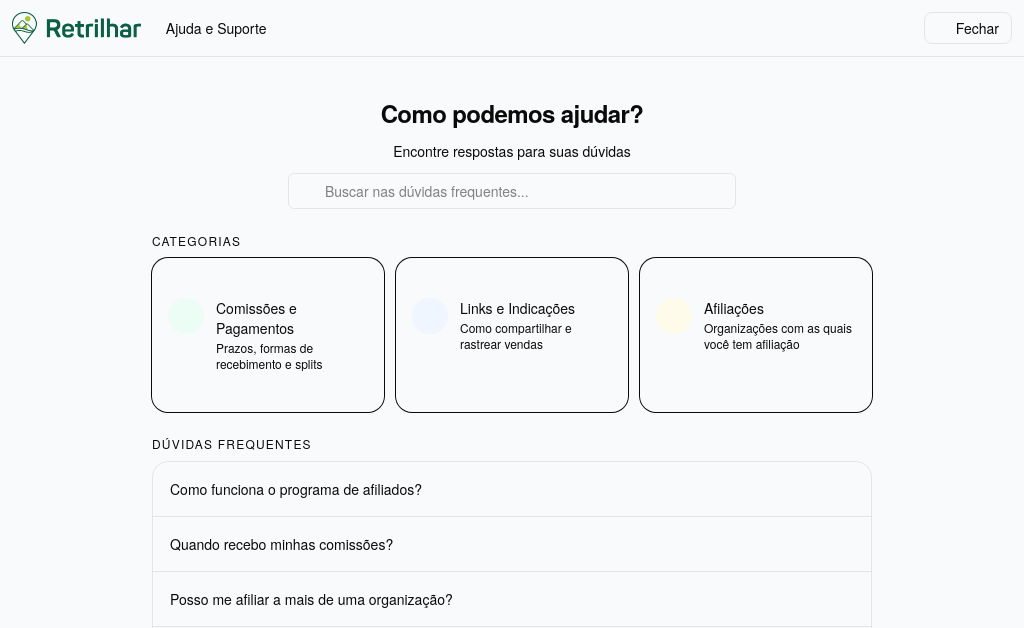
Test: AjudaPage › sanitizes every legacy relationship term in the link-expiration answer
The image size is (1024, 628).
Step 1. Type "link expirar" into the search field labelled "Buscar nas dúvidas frequentes" → (512, 191), box [288,173,736,209]
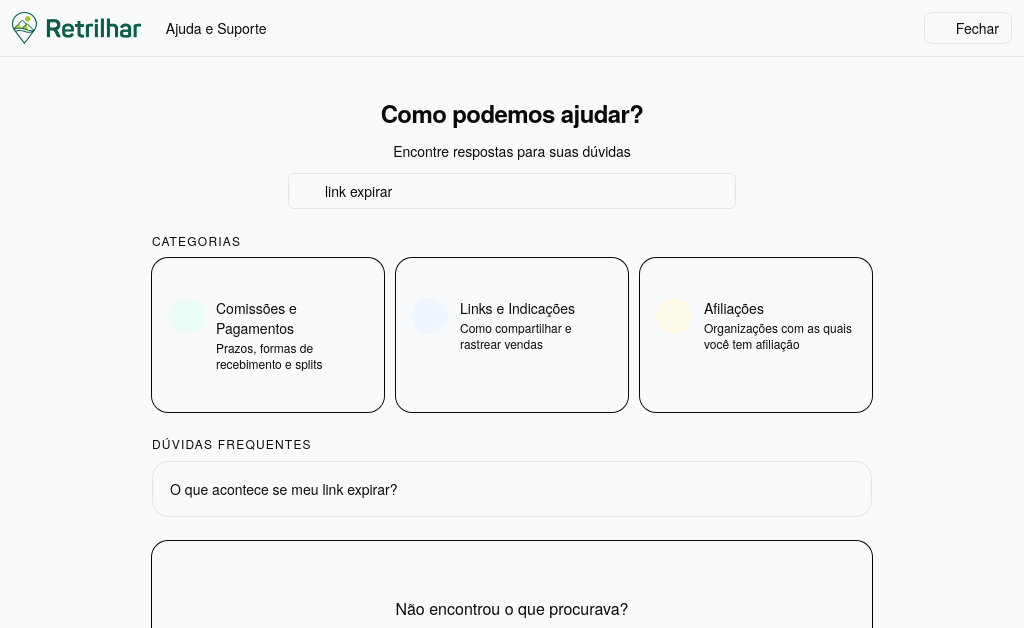
Step 2. Click the button "O que acontece se meu link expirar?" → (284, 489), box [153,462,871,516]
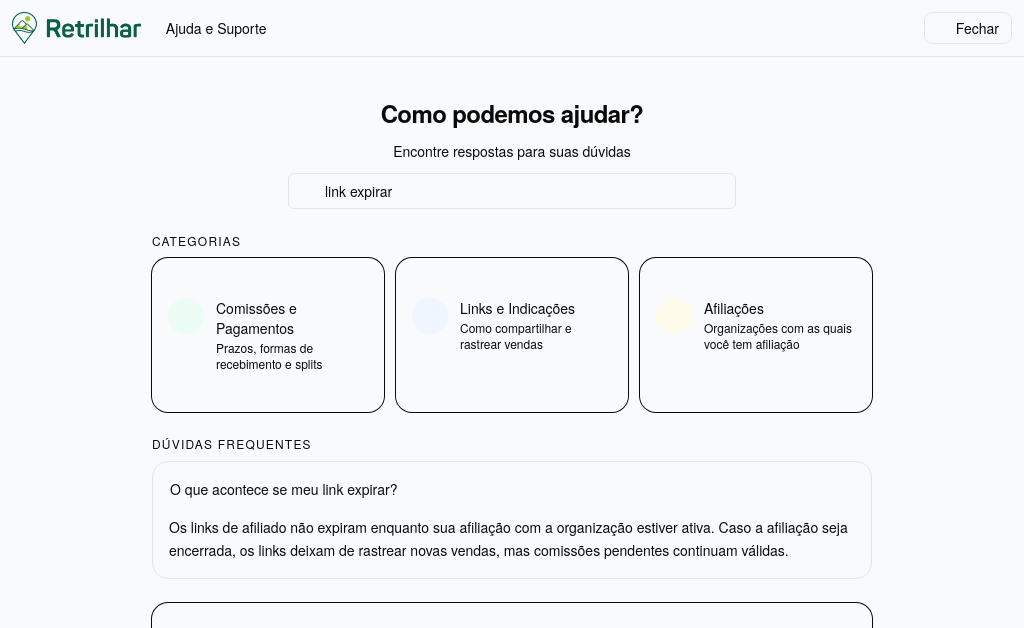
Check: the text "Caso a afiliação seja encerrada" is shown, box [169,517,848,560]
